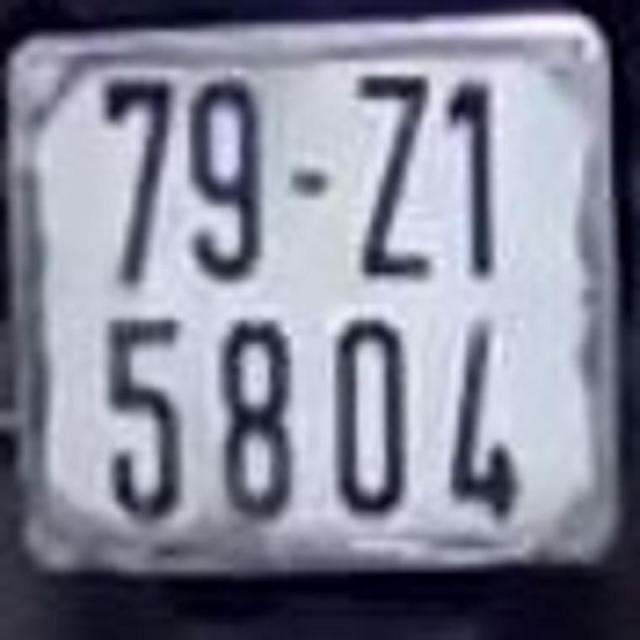0: (333, 310, 411, 517)
1: (441, 71, 514, 281)
4: (444, 309, 525, 525)
5: (101, 310, 187, 526)
7: (98, 71, 174, 286)
8: (217, 312, 296, 520)
9: (186, 71, 266, 283)
Z: (350, 63, 438, 282)
